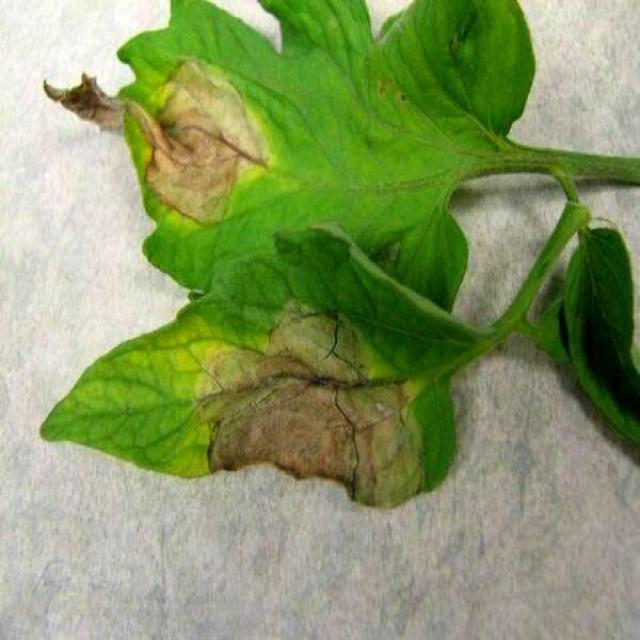Late Blight: (44, 0, 534, 289), (36, 216, 459, 511)
